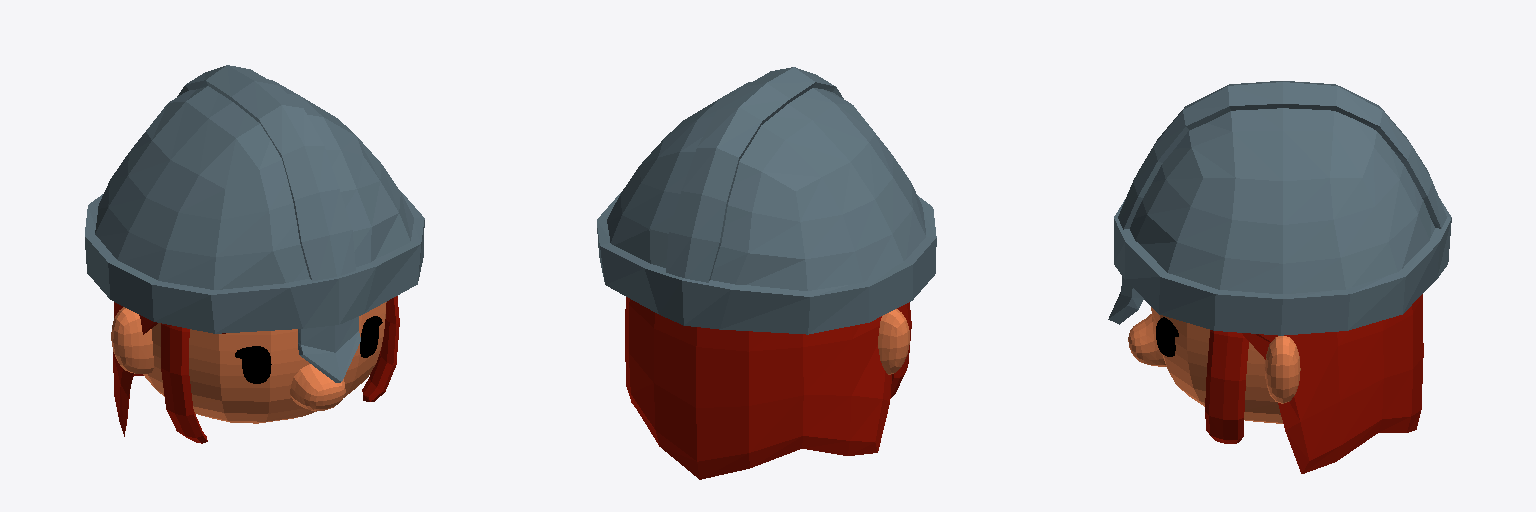
File: Knight3_Head.obj
3 views of the same model, side by side, from view 1: azimuth 30°, elevation 25°; view 2: azimuth 150°, elevation 25°; view 3: azimuth 270°, elevation 25° (orthographic).
Parts seen in each view (by area): view 1: Knight3_Head; view 2: Knight3_Head; view 3: Knight3_Head.
Boxes of the visible parts, x1=… form: Knight3_Head: x1=85, y1=65, x2=424, y2=443; Knight3_Head: x1=597, y1=67, x2=936, y2=479; Knight3_Head: x1=1108, y1=81, x2=1451, y2=473.
Size of the model in its own units: 1.86 by 2.11 by 1.89.